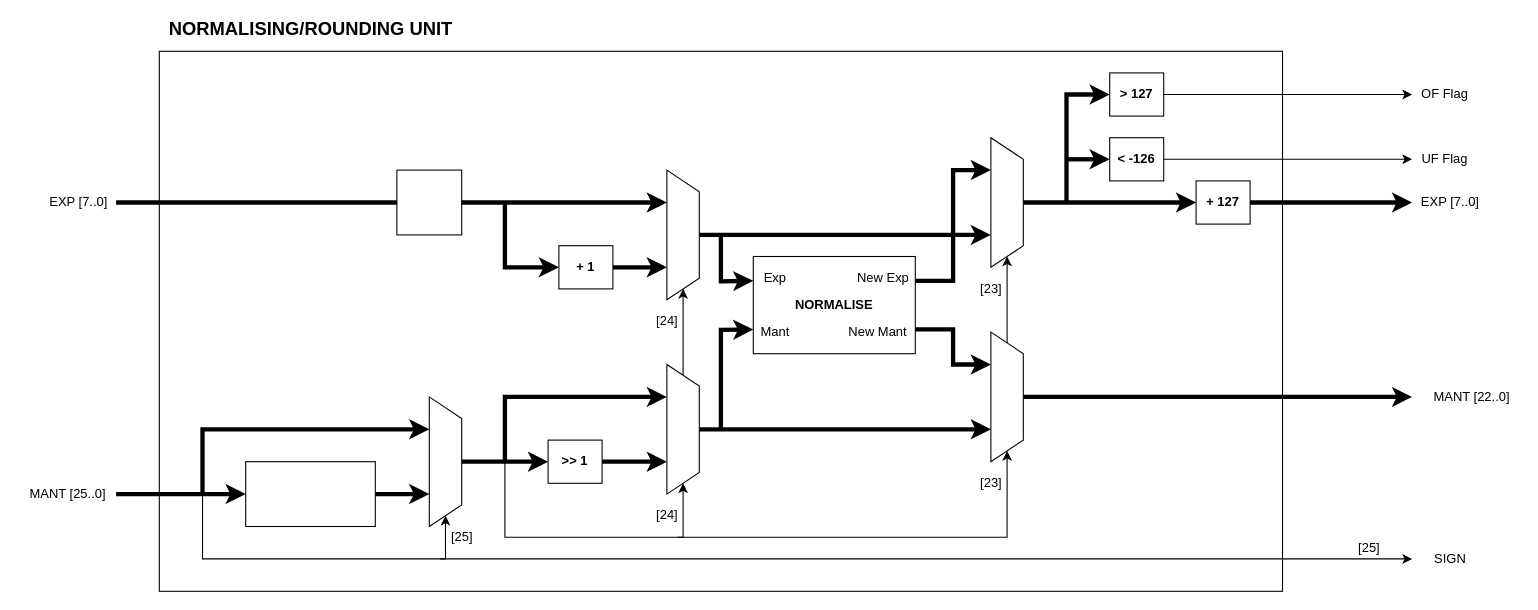
This 1538x610 diagram has some shape labels left out. Each missing label, with the centre of its shape:
"9 BIT SIGN EXTEND" goes at point 429,202.
"REVERT 2'S COMPLEMENT REPRESENTATION" goes at point 310,493.
